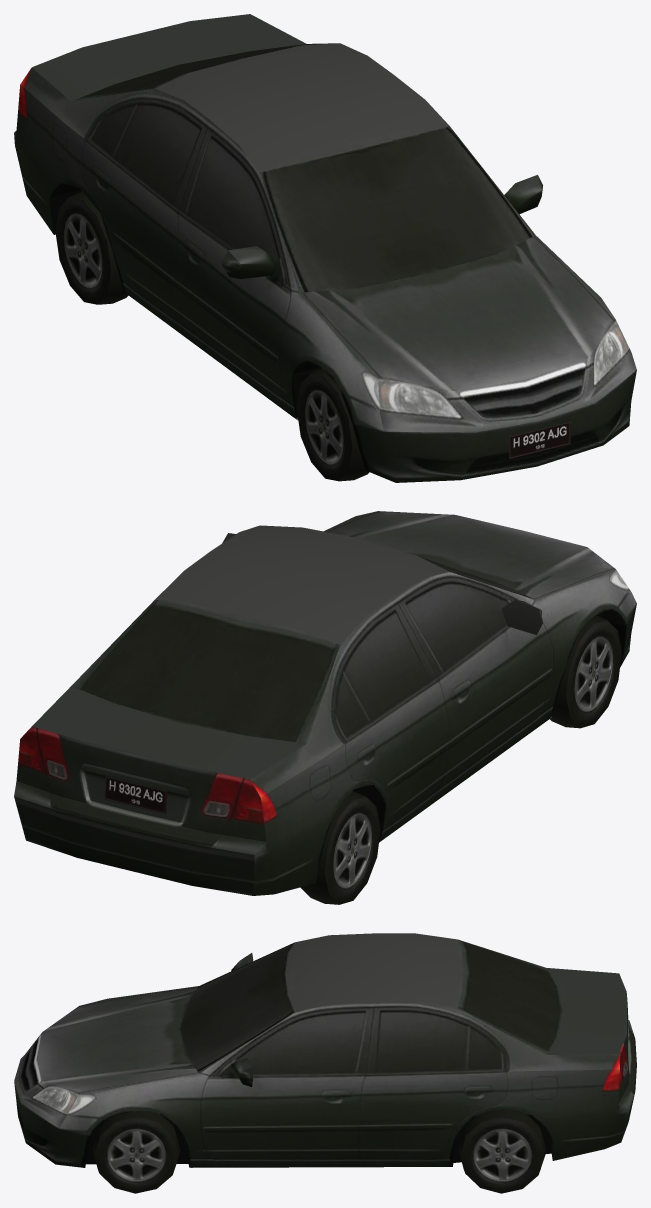
Rendered from sedan.glb.
The picture shows the model from 3 angles, top to bottom: view 1: azimuth 30°, elevation 25°; view 2: azimuth 150°, elevation 25°; view 3: azimuth 270°, elevation 25°; orthographic projection. The views are drawn at different scales.
Visible parts, largest first — view 1: body.cvc_Material.004_0; view 2: body.cvc_Material.004_0; view 3: body.cvc_Material.004_0.
Part boxes in pixels (x1,y1,x2,y2): body.cvc_Material.004_0: (14, 14, 636, 482); body.cvc_Material.004_0: (14, 511, 636, 904); body.cvc_Material.004_0: (14, 933, 636, 1193).
Bounding box in the file's own units: 2 × 1.42 × 4.41.
Materials: 1 (1 with a texture image).
